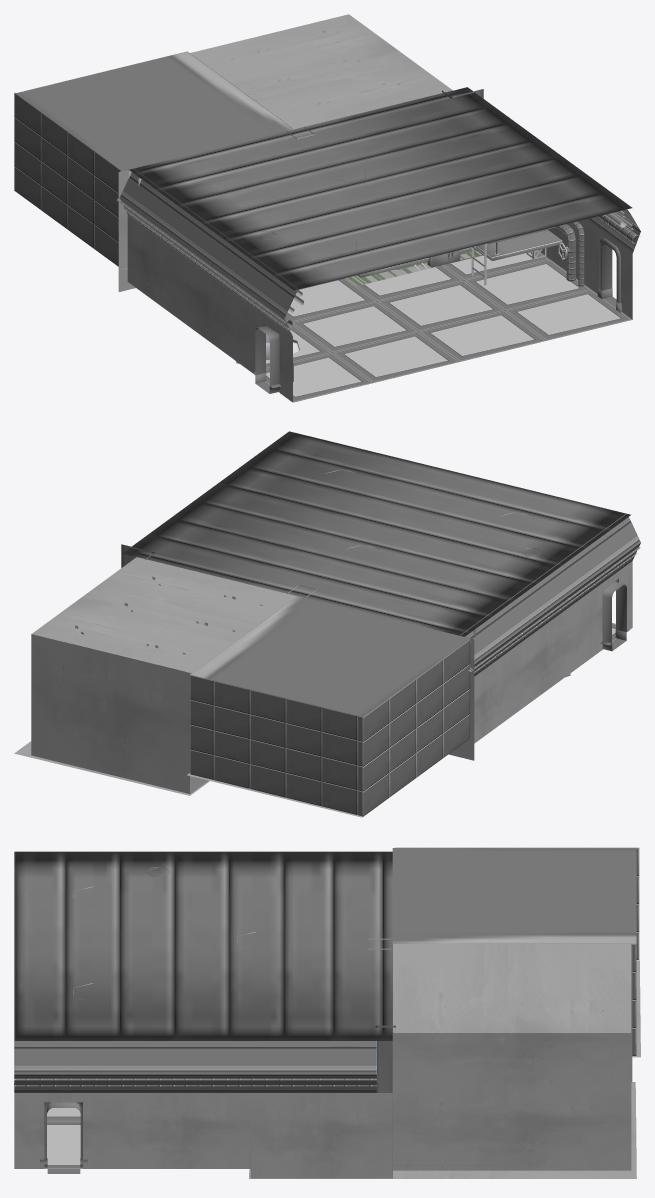
File: MSH_Power_Plant_room_L3_R2_optimized.fbx
3 views of the same model, one above another, from view 1: azimuth 30°, elevation 25°; view 2: azimuth 150°, elevation 25°; view 3: azimuth 270°, elevation 25° (orthographic). The views are drawn at different scales.
Visible parts, largest first — view 1: lightmap0, lightmap-1; view 2: lightmap0, lightmap-1; view 3: lightmap0.
Part boxes in pixels (left/top/right/bottom): lightmap0: left=14, top=14, right=640, bottom=402; lightmap-1: left=255, top=243, right=616, bottom=393; lightmap0: left=14, top=431, right=640, bottom=817; lightmap-1: left=602, top=582, right=626, bottom=651; lightmap0: left=14, top=847, right=640, bottom=1178.
Bounding box in the file's own units: 20.61 × 6.83 × 27.36.
